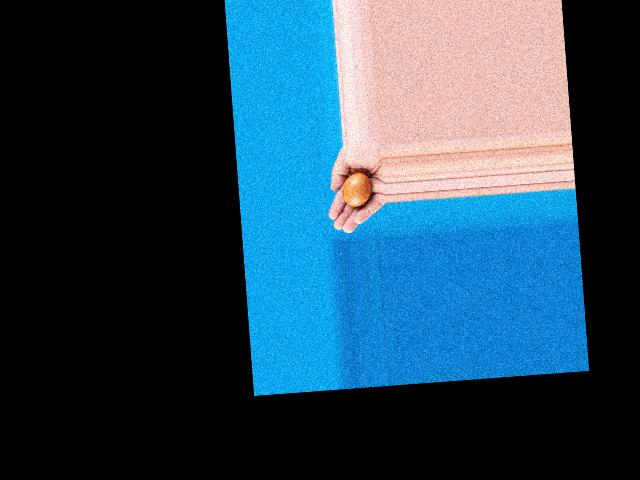egg: (341, 172, 372, 208)
